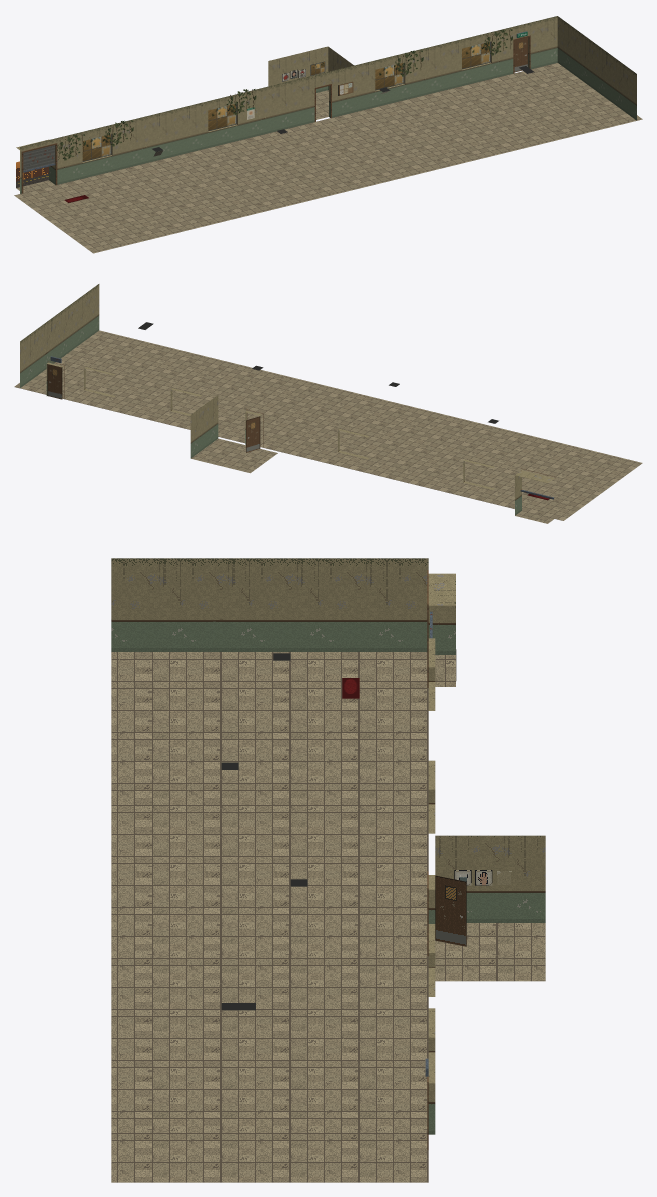
File: shell.gltf
The picture shows the model from 3 angles, top to bottom: view 1: azimuth 30°, elevation 25°; view 2: azimuth 150°, elevation 25°; view 3: azimuth 270°, elevation 25°; orthographic projection. The views are drawn at different scales.
Parts seen in each view (by area): view 1: shell; view 2: shell; view 3: shell.
Part boxes in pixels (x1,y1,x2,y2): shell: [14, 16, 642, 253]; shell: [14, 284, 642, 523]; shell: [111, 558, 545, 1182].
Bounding box in the file's own units: 36.8 × 3.2 × 12.6.
Materials: 15 (14 with a texture image).
